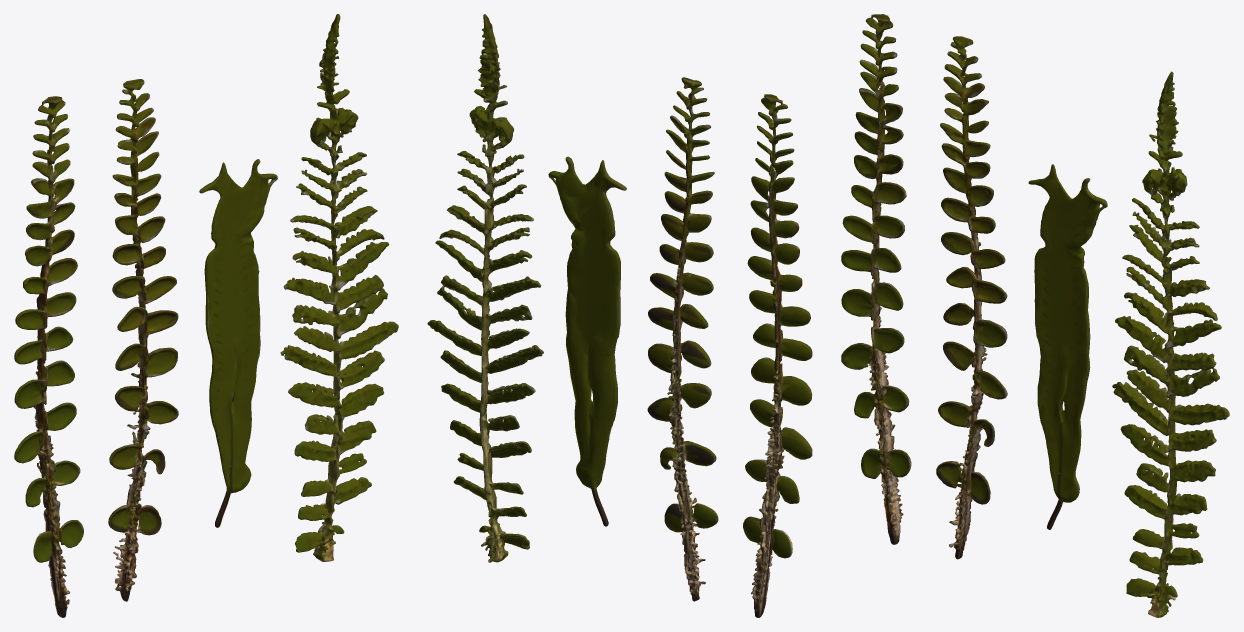
File: fern-curl-v12.glb
The picture shows the model from 3 angles, left to right: view 1: azimuth 30°, elevation 25°; view 2: azimuth 150°, elevation 25°; view 3: azimuth 330°, elevation 25°; orthographic projection.
Visible parts, largest first — view 1: geometry_0; view 2: geometry_0; view 3: geometry_0.
Boxes of the visible parts, box(x1,y1,x2,y2) form: geometry_0: box(14, 14, 398, 617); geometry_0: box(427, 14, 812, 617); geometry_0: box(841, 14, 1229, 617).
Size of the model in its own units: 0.45 by 0.6044 by 0.0271.
1 material, 1 textured.
